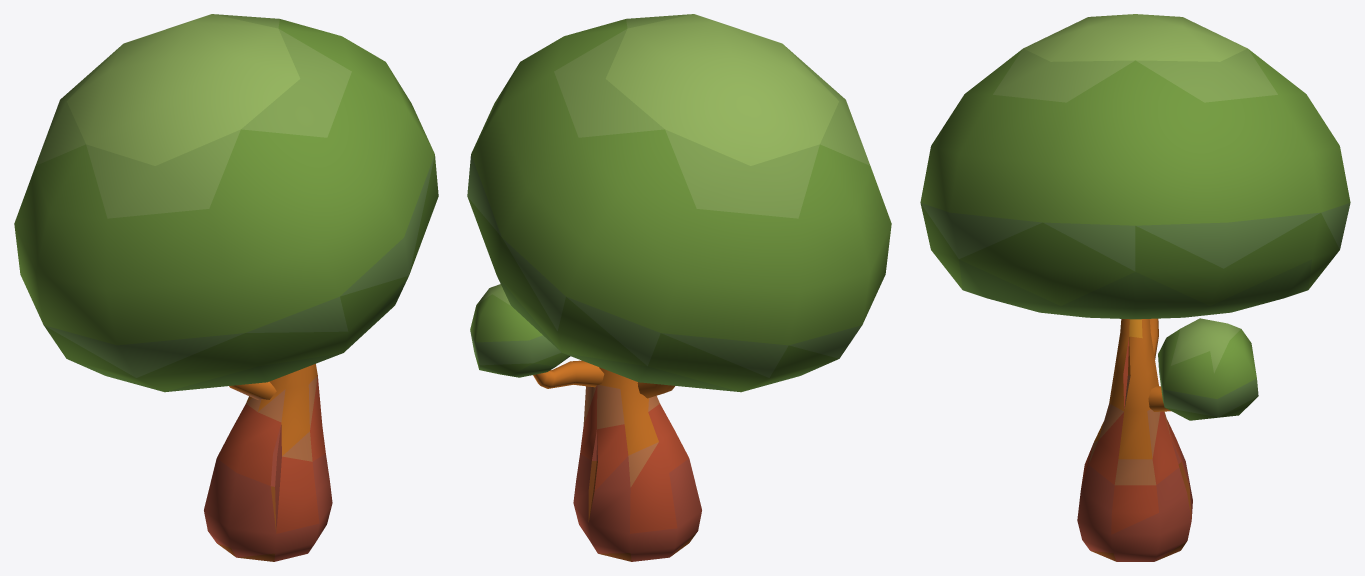
The model's file is itch_kaykit_forest_tree_1_a_color1.glb.
3 views of the same model, side by side, from view 1: azimuth 30°, elevation 25°; view 2: azimuth 150°, elevation 25°; view 3: azimuth 270°, elevation 25° (orthographic). The views are drawn at different scales.
Parts seen in each view (by area): view 1: Tree_1_A_Color1; view 2: Tree_1_A_Color1; view 3: Tree_1_A_Color1.
Boxes of the visible parts, x1,y1,x2,y2 form: Tree_1_A_Color1: (14,14,438,561); Tree_1_A_Color1: (467,14,891,561); Tree_1_A_Color1: (920,14,1350,561).
Size of the model in its own units: 1.19 by 1.56 by 1.22.
